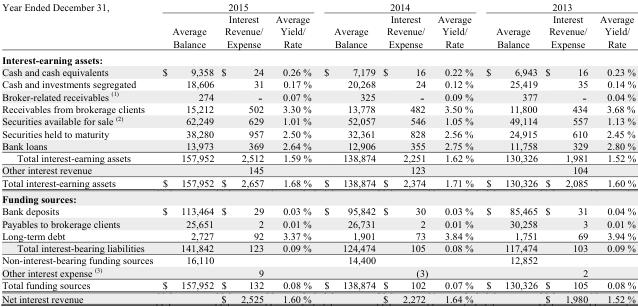table: (1, 0, 635, 303)
table column: (1, 0, 156, 303), (317, 0, 378, 303), (479, 0, 540, 303), (156, 0, 216, 303), (378, 0, 432, 303), (216, 0, 269, 303), (540, 0, 593, 303), (269, 0, 317, 303), (432, 0, 479, 303), (593, 0, 635, 303)
table column header: (1, 0, 635, 51)
table projected row header: (1, 51, 635, 65), (1, 190, 635, 204)
table row: (1, 12, 635, 51), (1, 51, 635, 65), (1, 89, 635, 103), (1, 176, 635, 190), (1, 190, 635, 204), (1, 126, 635, 139), (1, 163, 635, 176), (1, 216, 635, 229), (1, 265, 635, 278), (1, 278, 635, 291), (1, 0, 635, 12), (1, 65, 635, 77), (1, 77, 635, 89), (1, 114, 635, 126), (1, 139, 635, 151), (1, 151, 635, 163), (1, 204, 635, 216), (1, 229, 635, 241), (1, 241, 635, 253), (1, 253, 635, 265), (1, 291, 635, 303), (1, 103, 635, 114)
table spanning cell: (1, 0, 156, 51), (317, 0, 479, 12), (156, 0, 317, 12), (479, 0, 635, 12)
